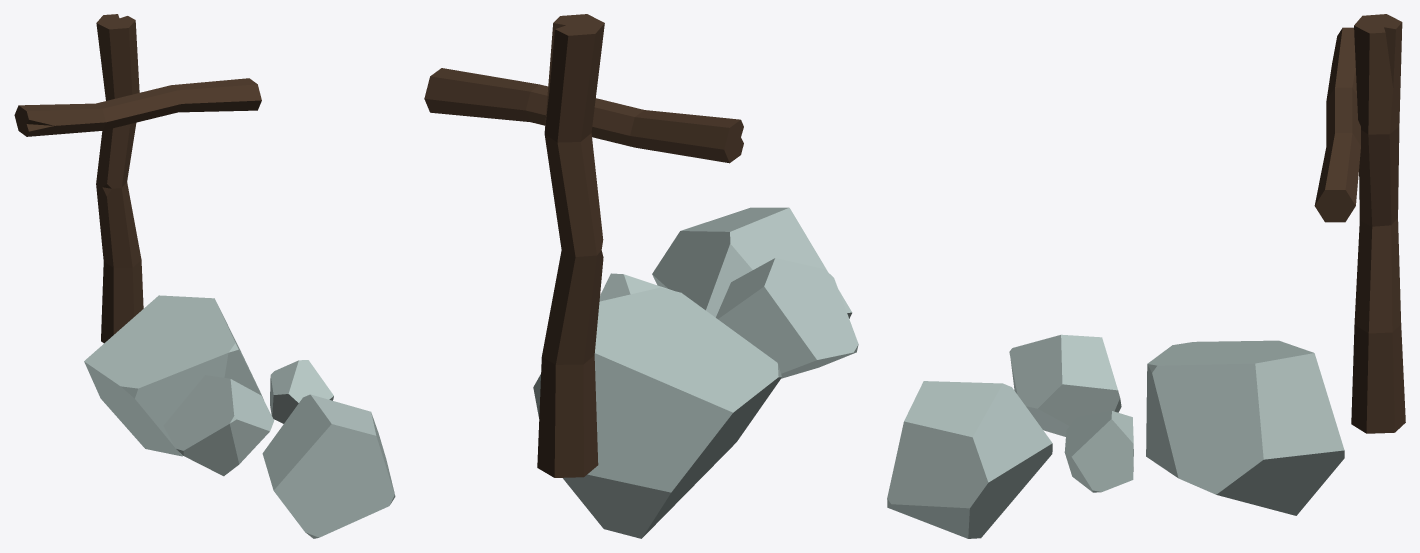
Rendered from Grave.fbx.
3 renders of one model, left to right at view 1: azimuth 30°, elevation 25°; view 2: azimuth 150°, elevation 25°; view 3: azimuth 270°, elevation 25°, orthographic. The views are drawn at different scales.
Parts seen in each view (by area): view 1: Grave; view 2: Grave; view 3: Grave.
Part boxes in pixels (<box>): Grave: <box>14,14,395,538</box>; Grave: <box>424,14,858,538</box>; Grave: <box>887,14,1405,538</box>.
Bounding box in the file's own units: 57.55 × 97.69 × 93.78.
